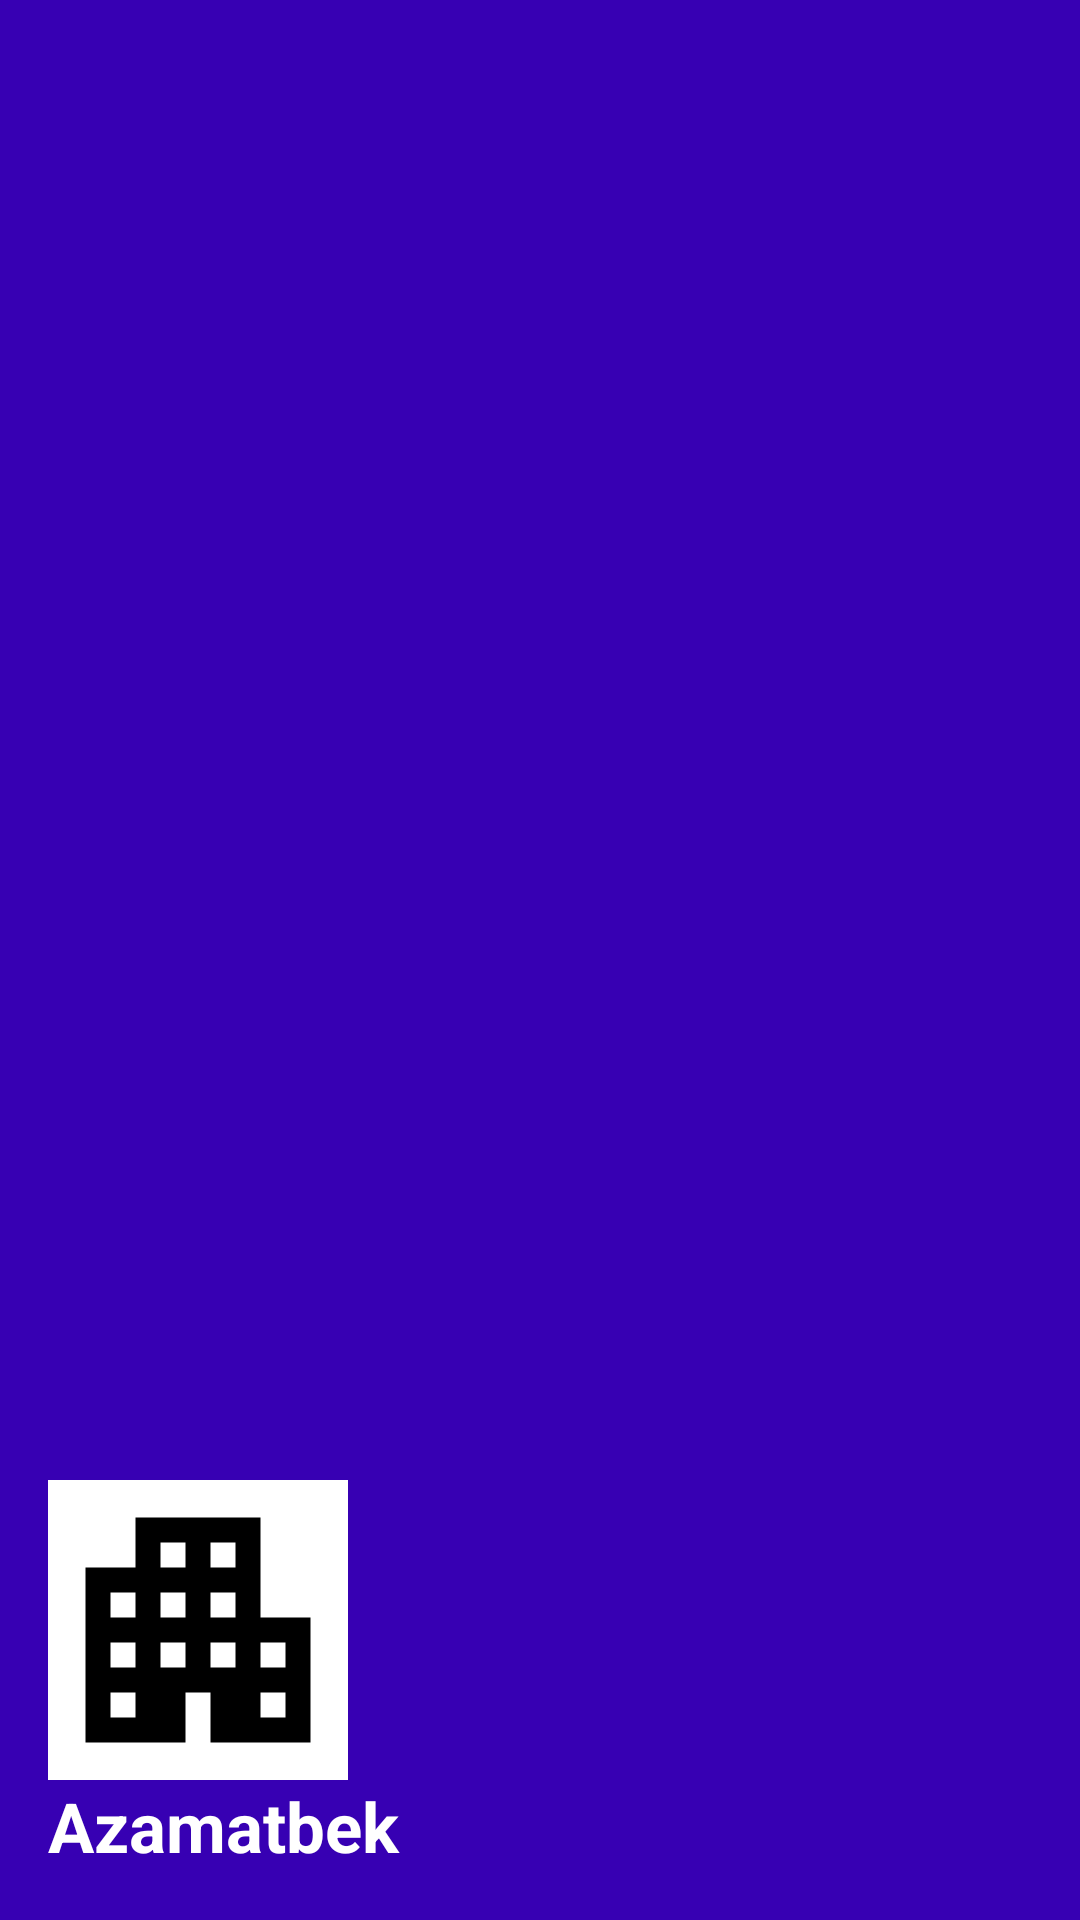

Locate icon controls on the screen. Image size 1080x1920, boxes as (x1, y1, x2, y2).
builds: (48, 1480, 348, 1780)
